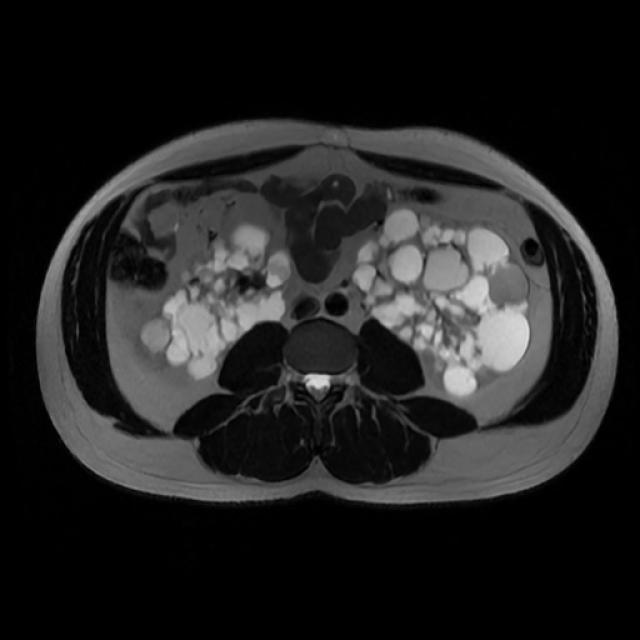sag: (140, 222, 294, 382)
sol: (352, 208, 531, 398)
